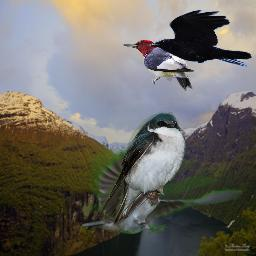Crow: (149, 10, 252, 67)
Swallow: (82, 149, 243, 234), (100, 109, 188, 226)
Woodpecker: (123, 40, 194, 91)
